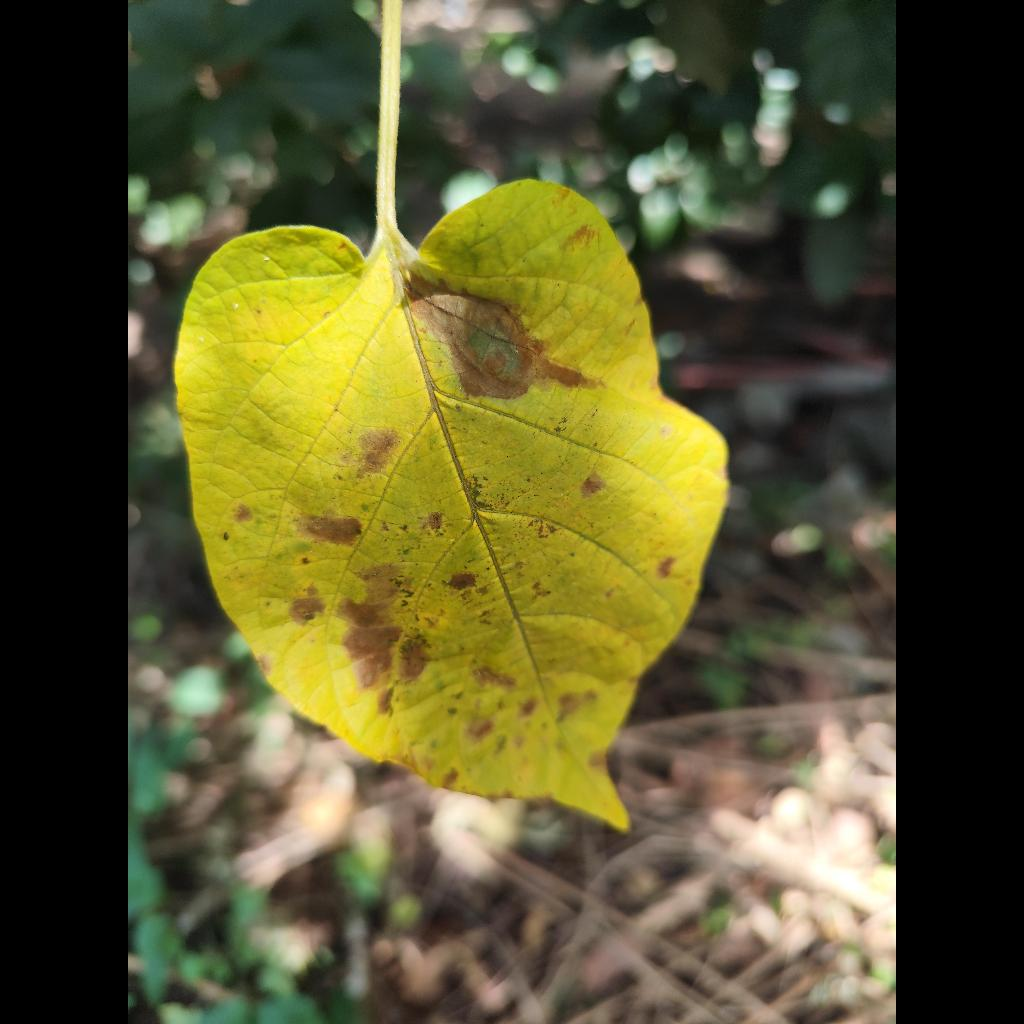nutrient_deficiency: (176, 0, 728, 829)
